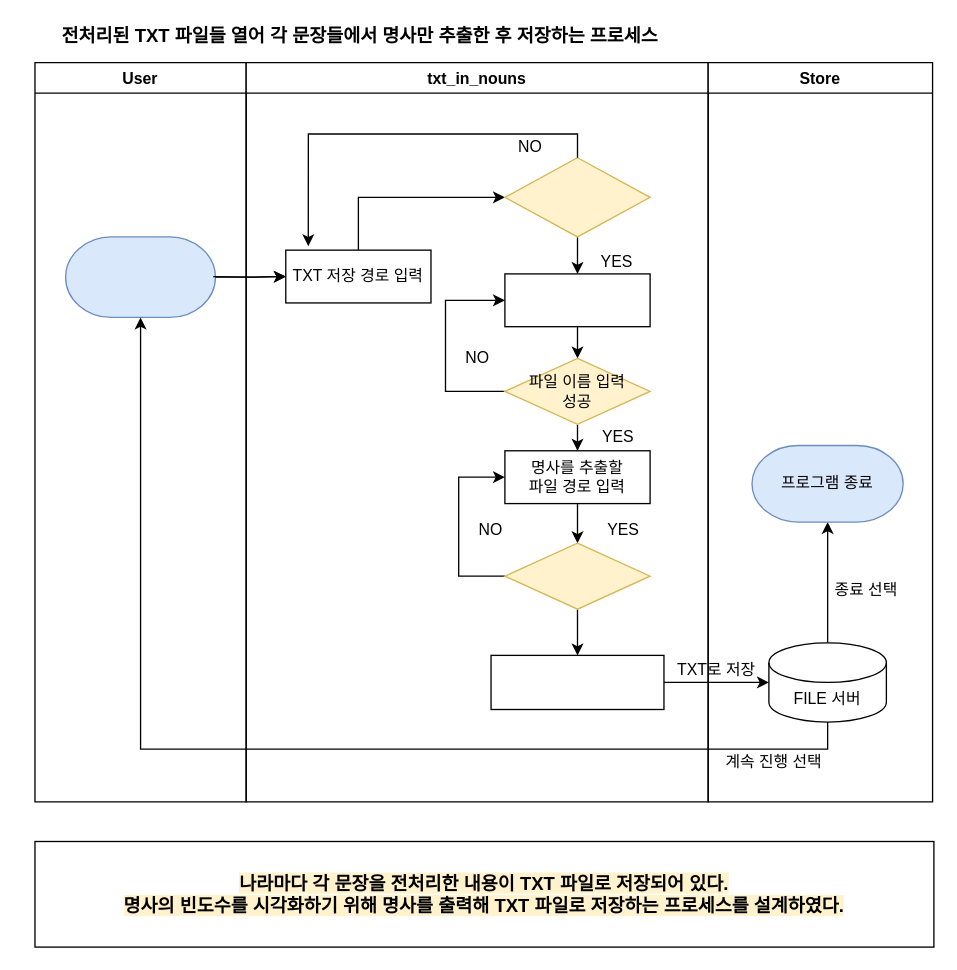
Some shapes in this 957 by 970 pixel diagram are drawn without their labels. The shapes that lost their labels are listed below. From the top down, each one's centre as x and y in pixels, then its label:
At (x=577, y=196): "폴더 경로 입력 성공".
At (x=139, y=276): "프로그램 시작".
At (x=577, y=300): "저장할 TXT 파일 이름 입력".
At (x=577, y=575): "파일 경로 입력 성공".
At (x=577, y=682): "txt 파일에서 명사 추출".
